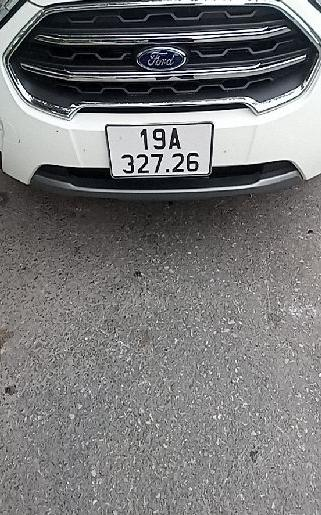Plate-iWeP: (104, 119, 218, 181)
